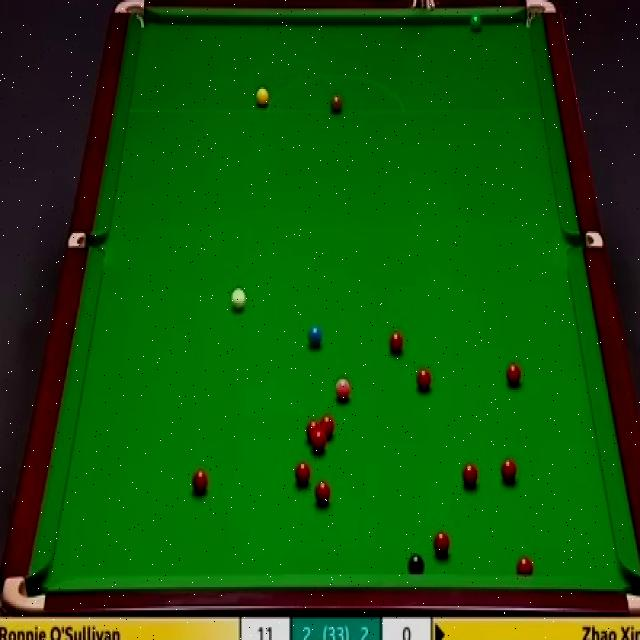black-ball: (405, 552, 424, 576)
blue-ball: (306, 324, 323, 350)
brown-ball: (328, 92, 343, 115)
green-ball: (469, 12, 485, 33)
pink-ball: (335, 374, 351, 402)
red-ball: (416, 366, 434, 396), (314, 480, 332, 510), (432, 531, 450, 559), (191, 469, 208, 497), (296, 459, 313, 487), (500, 457, 517, 484), (388, 330, 404, 358), (461, 463, 478, 489), (506, 361, 522, 388), (516, 554, 534, 576), (320, 415, 335, 441), (306, 419, 320, 441), (312, 432, 326, 453)
white-ball: (229, 285, 247, 312)
yellow-ball: (254, 86, 269, 107)
